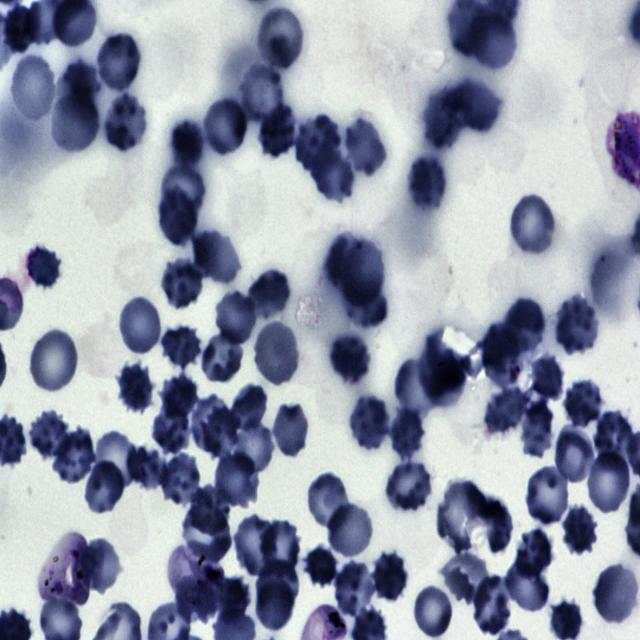red blood cell: (26, 327, 80, 395), (49, 87, 101, 157), (437, 481, 488, 552), (508, 192, 558, 258), (585, 448, 633, 516), (470, 8, 520, 73), (9, 54, 56, 123), (253, 321, 301, 388), (258, 4, 306, 71), (524, 463, 572, 527), (592, 563, 640, 627), (294, 113, 342, 177), (419, 341, 466, 406), (95, 31, 143, 94), (201, 95, 249, 158), (232, 514, 279, 578), (325, 500, 375, 560), (102, 92, 150, 154), (445, 80, 501, 133), (340, 240, 384, 306), (180, 506, 229, 564), (304, 472, 352, 531), (192, 226, 240, 285), (384, 458, 434, 514), (213, 449, 260, 508), (239, 62, 285, 122), (156, 185, 199, 249), (253, 572, 297, 634), (554, 297, 600, 356), (440, 550, 490, 604), (312, 139, 354, 203), (482, 322, 524, 386), (470, 577, 514, 638), (394, 358, 439, 417), (593, 408, 635, 471), (344, 116, 388, 176), (258, 518, 302, 578), (119, 295, 162, 356), (504, 560, 552, 614), (553, 426, 596, 486), (94, 430, 138, 488), (200, 331, 247, 385), (406, 153, 449, 212), (51, 430, 96, 485), (333, 563, 377, 619), (160, 258, 206, 311), (327, 330, 372, 384), (248, 268, 293, 322), (162, 164, 206, 219), (83, 461, 126, 517), (348, 395, 390, 452), (502, 298, 543, 356), (160, 453, 202, 508), (228, 383, 270, 438), (562, 379, 606, 431), (151, 401, 192, 456), (518, 401, 556, 460), (190, 393, 228, 452), (514, 526, 556, 579), (388, 406, 428, 461), (426, 88, 463, 147), (272, 402, 310, 459), (370, 550, 410, 604), (560, 503, 600, 557), (28, 410, 71, 460), (232, 422, 274, 473), (414, 584, 454, 637), (256, 107, 296, 160), (114, 363, 156, 413), (342, 282, 386, 328), (160, 324, 203, 371), (23, 243, 62, 294), (190, 485, 229, 536), (217, 292, 254, 345), (485, 389, 525, 438), (82, 540, 119, 592), (527, 356, 565, 406), (126, 445, 170, 488), (160, 372, 202, 416), (204, 406, 238, 459), (304, 543, 341, 591), (218, 577, 252, 625), (170, 119, 204, 167), (550, 598, 584, 640)
trophozoite: (37, 532, 88, 607), (168, 544, 223, 597)
